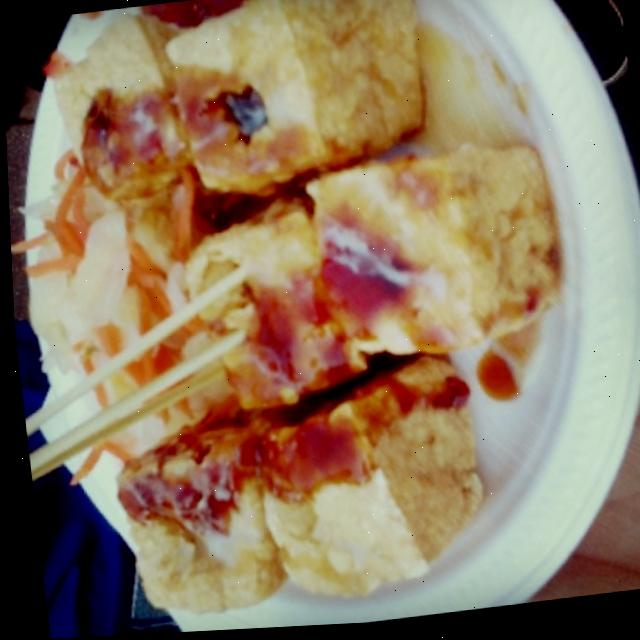豆腐料理: (0, 0, 594, 640)
